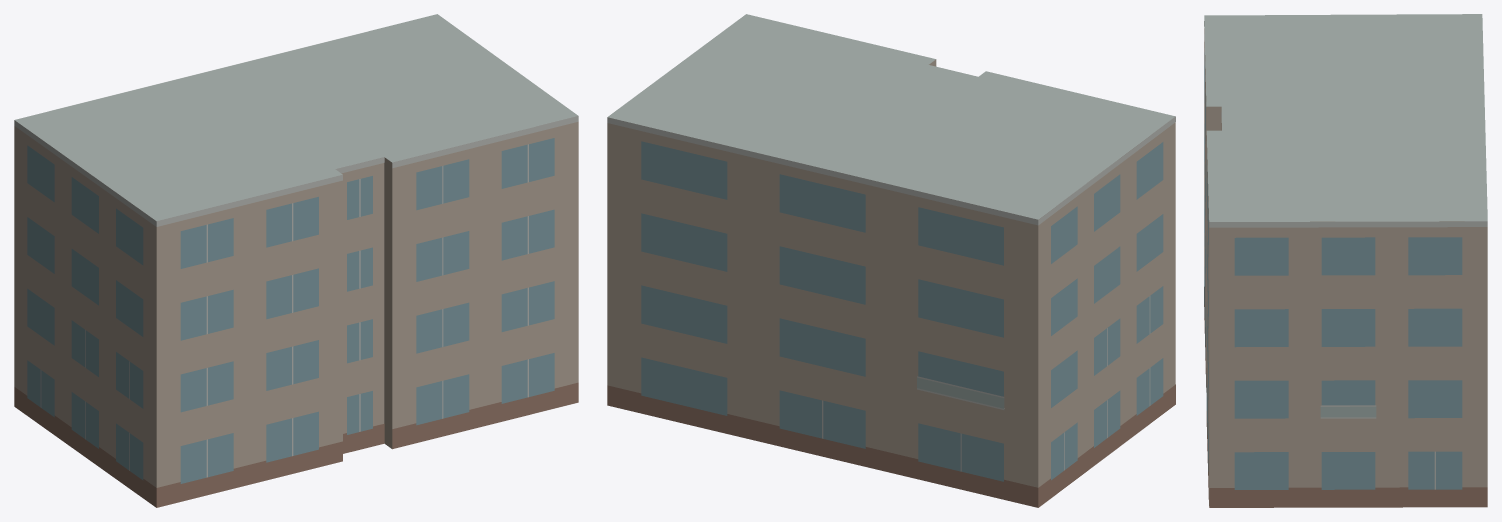
Rendered from survey-upis-32463779.glb.
3 renders of one model, left to right at view 1: azimuth 30°, elevation 25°; view 2: azimuth 150°, elevation 25°; view 3: azimuth 270°, elevation 25°, orthographic.
Visible parts, largest first — view 1: survey-upis-32463779.tmp; view 2: survey-upis-32463779.tmp; view 3: survey-upis-32463779.tmp.
Part boxes in pixels (box(x1,y1,x2,y2)): survey-upis-32463779.tmp: box(14, 14, 578, 507); survey-upis-32463779.tmp: box(607, 14, 1175, 507); survey-upis-32463779.tmp: box(1204, 14, 1487, 507).
Size of the model in its own units: 19.06 by 12.2 by 10.98.
